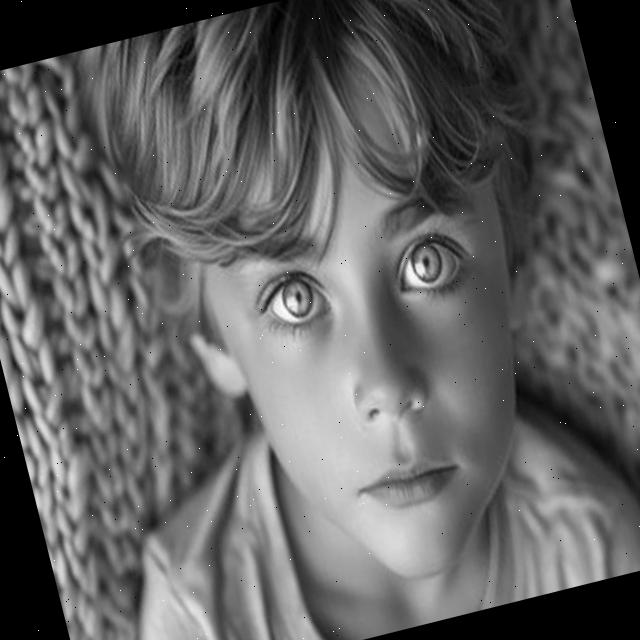Neutral: (170, 73, 580, 610)
